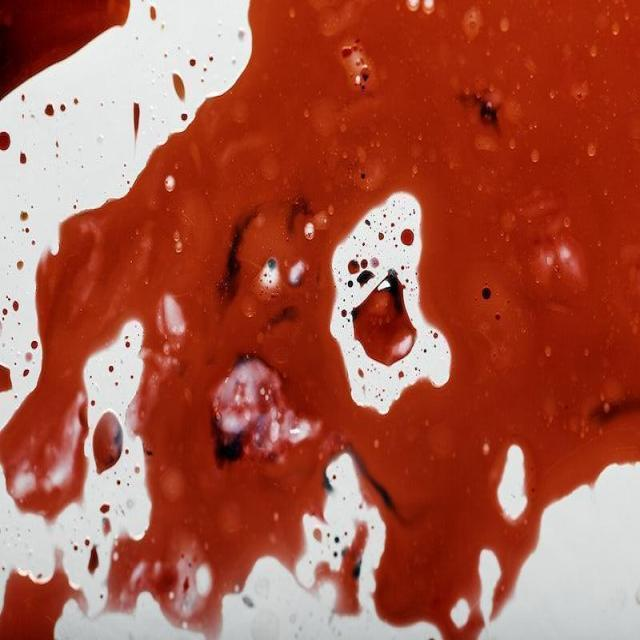flood: (242, 1, 640, 640), (7, 113, 240, 638), (1, 3, 144, 102)
